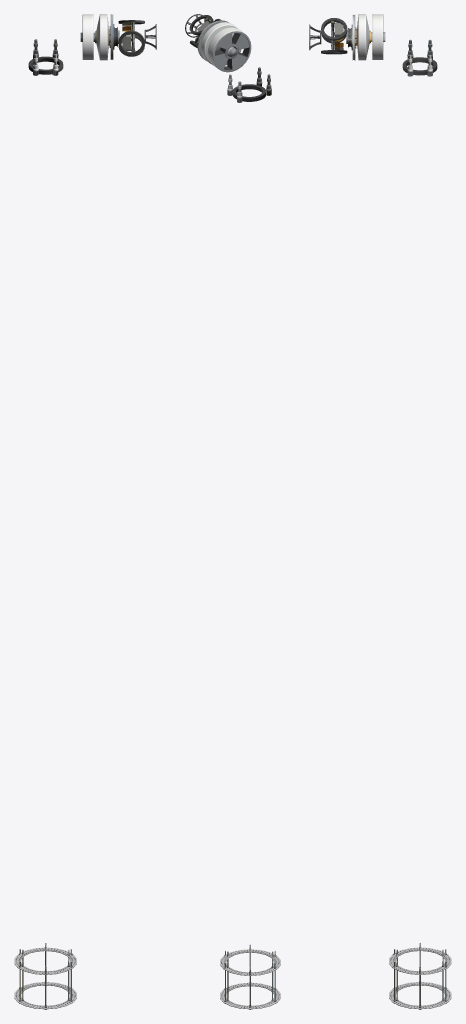
The model's file is banzhiqu_neibumoxing_jicang.glb.
3 views of the same model, side by side, from view 1: azimuth 90°, elevation 25°; view 2: azimuth 210°, elevation 25°; view 3: azimuth 270°, elevation 25° (orthographic). The views are drawn at different scales.
Parts seen in each view (by area): view 1: banzhiqu_neibumoxing_maoshuan, neibumoxing_chuandonglian, neibumoxing_bianjiangxitong, neibumoxing_pianhangzhuangzhi; view 2: neibumoxing_chuandonglian, banzhiqu_neibumoxing_maoshuan, neibumoxing_pianhangzhuangzhi, neibumoxing_bianjiangxitong; view 3: banzhiqu_neibumoxing_maoshuan, neibumoxing_chuandonglian, neibumoxing_bianjiangxitong, neibumoxing_pianhangzhuangzhi.
Boxes of the visible parts, box(x1,y1,x2,y2) form: banzhiqu_neibumoxing_maoshuan: box(14, 943, 76, 1009); neibumoxing_chuandonglian: box(80, 14, 119, 60); neibumoxing_bianjiangxitong: box(109, 20, 156, 56); neibumoxing_pianhangzhuangzhi: box(28, 39, 63, 75); neibumoxing_chuandonglian: box(201, 22, 251, 72); banzhiqu_neibumoxing_maoshuan: box(220, 944, 280, 1009); neibumoxing_pianhangzhuangzhi: box(227, 67, 271, 102); neibumoxing_bianjiangxitong: box(185, 14, 220, 47); banzhiqu_neibumoxing_maoshuan: box(389, 943, 451, 1009); neibumoxing_chuandonglian: box(346, 14, 385, 60); neibumoxing_bianjiangxitong: box(309, 18, 356, 54); neibumoxing_pianhangzhuangzhi: box(402, 39, 437, 76).
Bounding box in the file's own units: 567 × 9604 × 1265.
1 material, 1 textured.
